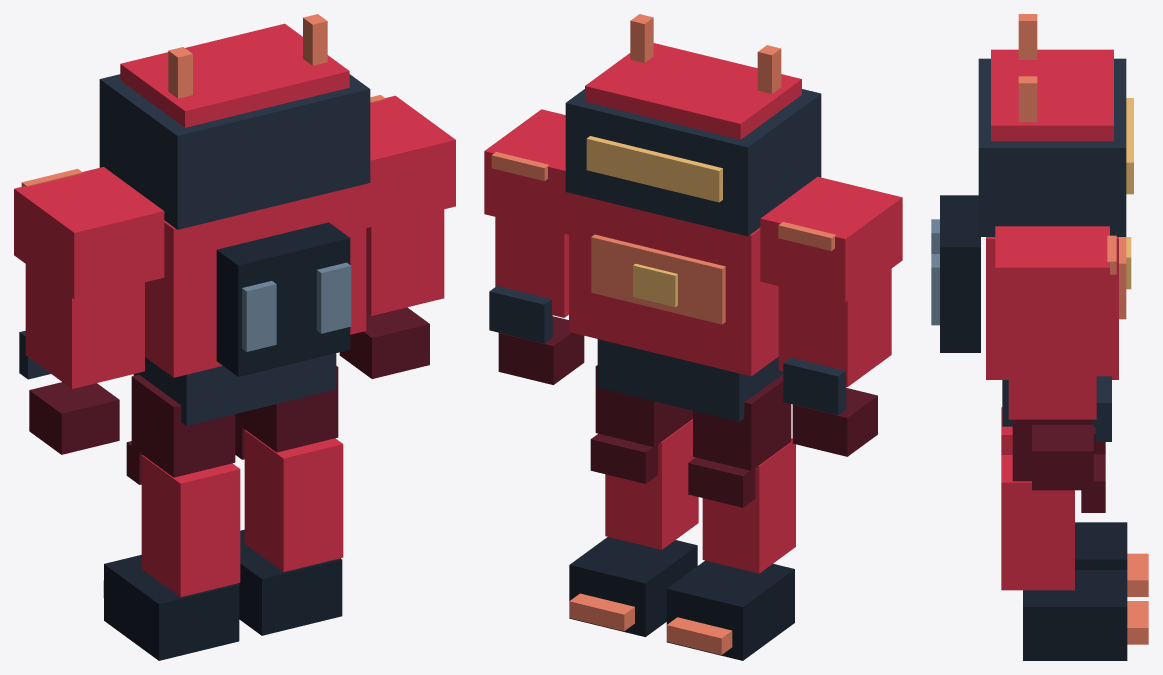
The model's file is S2_RedEnemyRobot_LOD1.obj.
The picture shows the model from 3 angles, left to right: view 1: azimuth 30°, elevation 25°; view 2: azimuth 150°, elevation 25°; view 3: azimuth 270°, elevation 25°; orthographic projection. The views are drawn at different scales.
Parts seen in each view (by area): view 1: HeadHelmet_27, UpperTorso_24, ShoulderArmor_6, Backpack_31, HelmetColor_28, KneeShin_2, KneeShin_13, Arm_4, Boot_1, ShoulderArmor_17, Pelvis_23, Arm_15 (+10 smaller); view 2: UpperTorso_24, HeadHelmet_27, ShoulderArmor_6, HelmetColor_28, Arm_4, Boot_1, Pelvis_23, KneeShin_2, Boot_12, ShoulderArmor_17, KneeShin_13, ChestPlate_25 (+17 smaller); view 3: HeadHelmet_27, ShoulderArmor_17, HelmetColor_28, Boot_12, KneeShin_13, Arm_15, Backpack_31, Hand_16, UpperTorso_24, Boot_1, UpperLeg_14, ForearmMetal_21 (+11 smaller).
Part boxes in pixels (left/top/right/bottom): HeadHelmet_27: left=99, top=74, right=370, bottom=229; UpperTorso_24: left=145, top=184, right=366, bottom=377; ShoulderArmor_6: left=14, top=167, right=164, bottom=299; Backpack_31: left=216, top=222, right=350, bottom=376; HelmetColor_28: left=120, top=23, right=349, bottom=127; KneeShin_2: left=141, top=455, right=240, bottom=597; KneeShin_13: left=244, top=430, right=343, bottom=571; Arm_4: left=25, top=264, right=144, bottom=388; Boot_1: left=104, top=555, right=239, bottom=660; ShoulderArmor_17: left=366, top=95, right=455, bottom=228; Pelvis_23: left=133, top=353, right=336, bottom=425; Arm_15: left=366, top=209, right=444, bottom=315; UpperTorso_24: left=569, top=193, right=778, bottom=376; HeadHelmet_27: left=565, top=89, right=821, bottom=236; ShoulderArmor_6: left=760, top=176, right=902, bottom=302; HelmetColor_28: left=585, top=43, right=801, bottom=139; Arm_4: left=778, top=269, right=891, bottom=386; Boot_1: left=666, top=560, right=794, bottom=660; Pelvis_23: left=597, top=339, right=783, bottom=421; KneeShin_2: left=702, top=438, right=795, bottom=573; Boot_12: left=569, top=537, right=697, bottom=636; ShoulderArmor_17: left=484, top=109, right=568, bottom=234; KneeShin_13: left=605, top=419, right=698, bottom=549; ChestPlate_25: left=591, top=234, right=725, bottom=324; HeadHelmet_27: left=978, top=58, right=1126, bottom=236; ShoulderArmor_17: left=995, top=226, right=1109, bottom=330; HelmetColor_28: left=991, top=49, right=1113, bottom=141; Boot_12: left=1023, top=570, right=1127, bottom=660; KneeShin_13: left=1001, top=455, right=1074, bottom=590; Arm_15: left=1008, top=331, right=1096, bottom=419; Backpack_31: left=940, top=195, right=980, bottom=352; Hand_16: left=1032, top=424, right=1093, bottom=490; UpperTorso_24: left=986, top=237, right=1118, bottom=379; Boot_1: left=1075, top=522, right=1127, bottom=569; UpperLeg_14: left=1012, top=419, right=1092, bottom=481; ForearmMetal_21: left=1095, top=376, right=1111, bottom=441.
Bounding box in the file's own units: 2.04 × 3.07 × 1.06.
